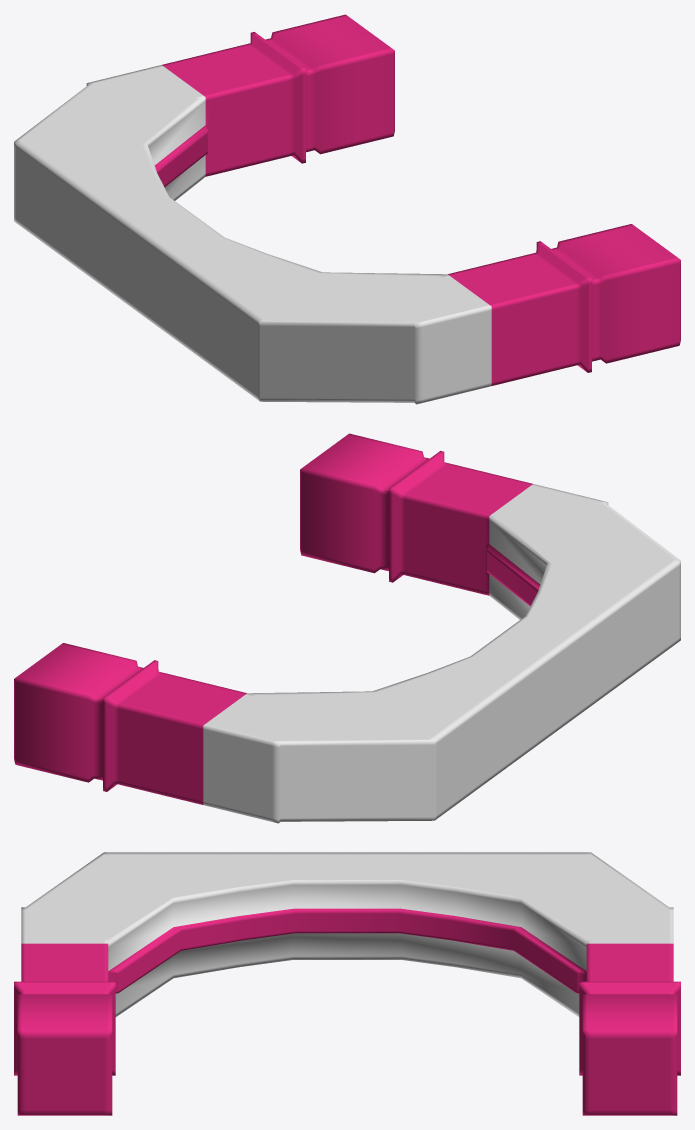
Rendered from arch.fbx.
3 views of the same model, one above another, from view 1: azimuth 30°, elevation 25°; view 2: azimuth 150°, elevation 25°; view 3: azimuth 270°, elevation 25° (orthographic).
Parts seen in each view (by area): view 1: Cube.286; view 2: Cube.286; view 3: Cube.286.
Boxes of the visible parts, left/top/right/bottom form: Cube.286: left=14, top=14, right=680, bottom=404; Cube.286: left=14, top=433, right=680, bottom=823; Cube.286: left=14, top=852, right=680, bottom=1115.
Bounding box in the file's own units: 994 × 234 × 1534.
